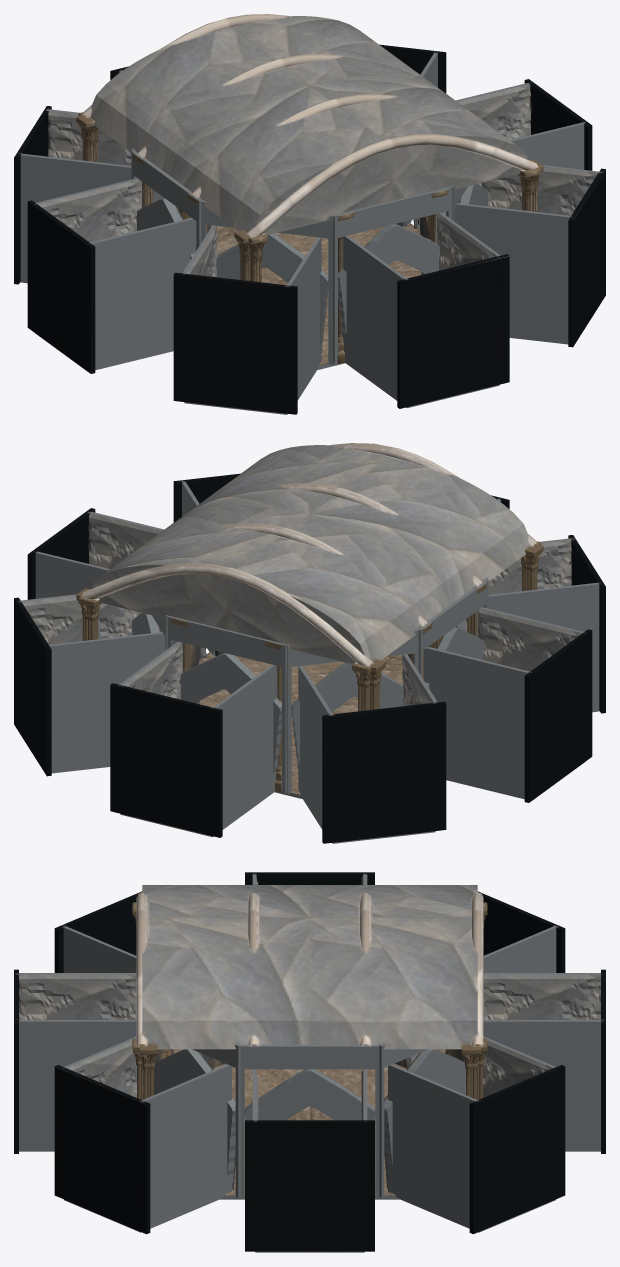
File: room.glb
3 views of the same model, one above another, from view 1: azimuth 30°, elevation 25°; view 2: azimuth 150°, elevation 25°; view 3: azimuth 270°, elevation 25° (orthographic). The views are drawn at different scales.
Parts seen in each view (by area): view 1: DIAMOND-4; view 2: DIAMOND-4; view 3: DIAMOND-4.
Boxes of the visible parts, x1,y1,x2,y2 form: DIAMOND-4: [14, 14, 605, 414]; DIAMOND-4: [14, 443, 605, 843]; DIAMOND-4: [14, 872, 605, 1252].
Bounding box in the file's own units: 14.12 × 5.75 × 14.12.
Materials: 1 (1 with a texture image).
